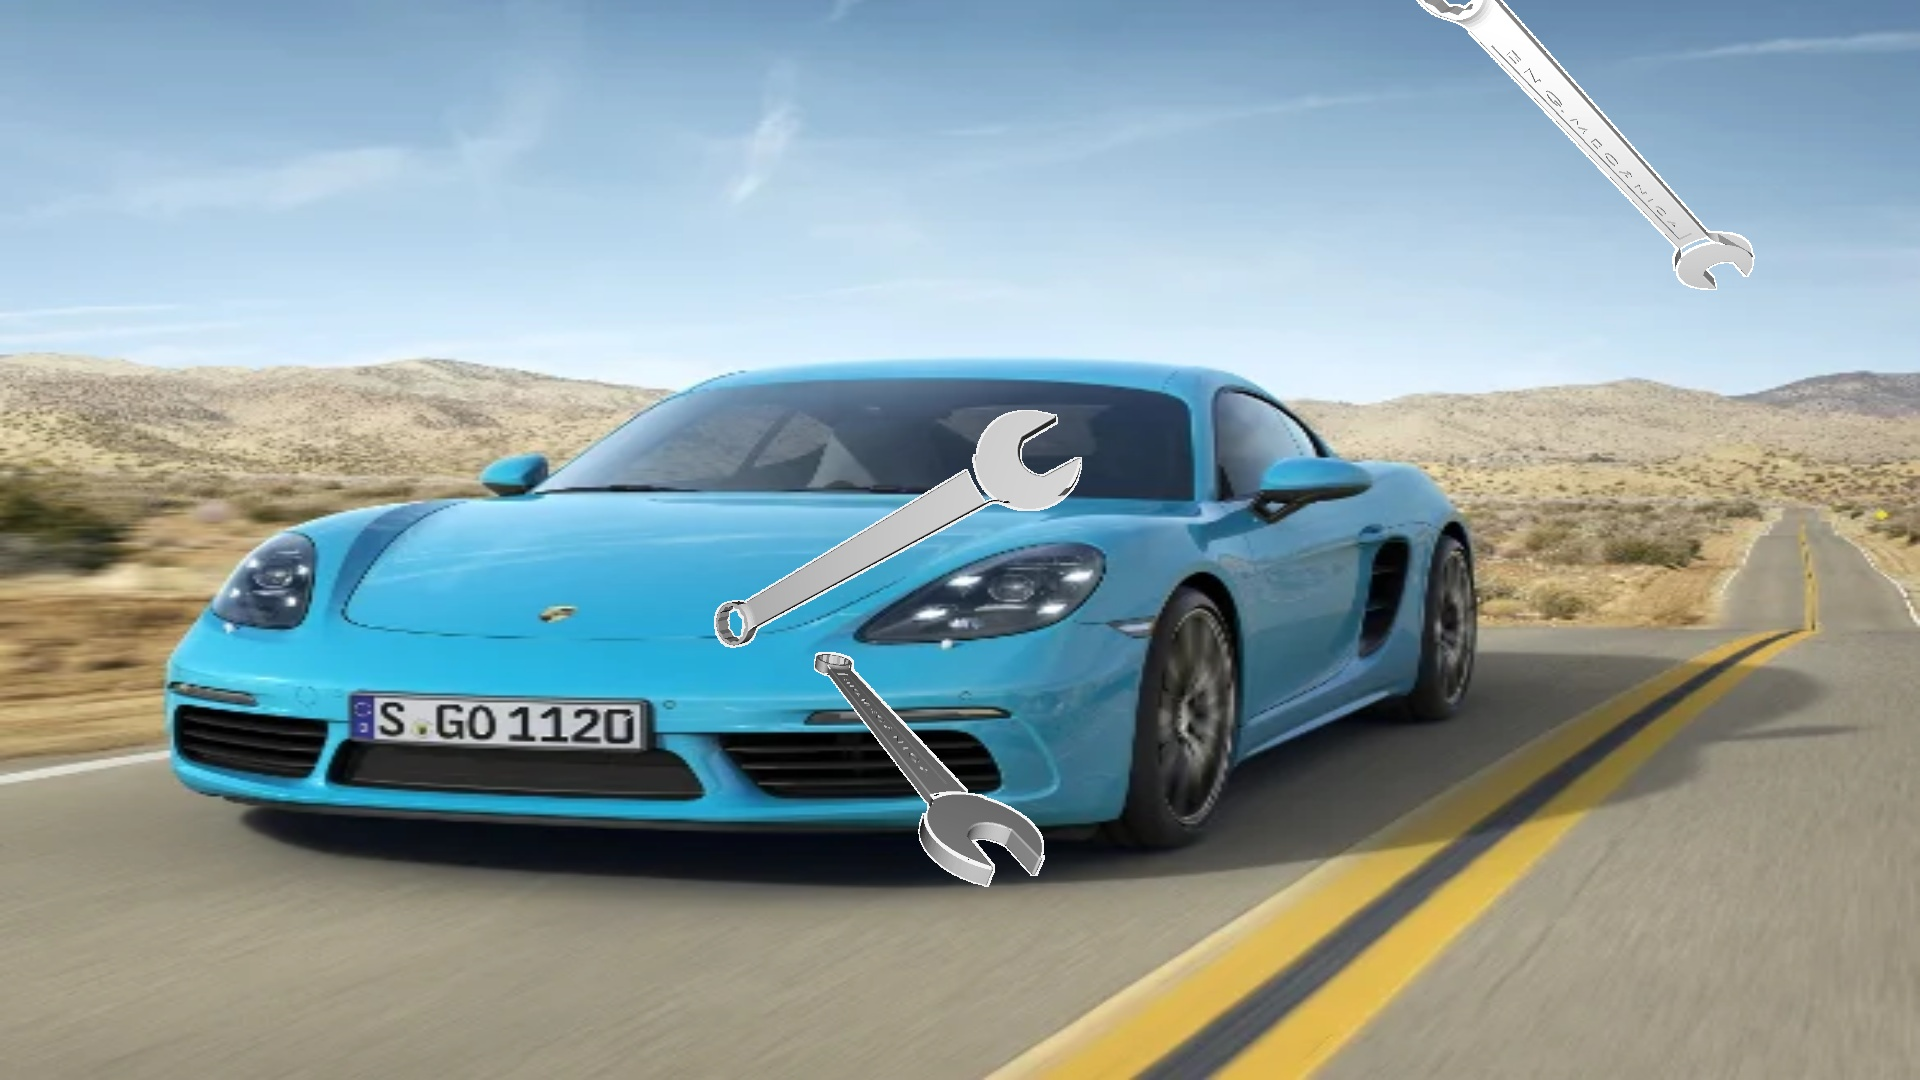Mixed Key: (1416, 0, 1754, 289), (713, 410, 1081, 647), (814, 651, 1044, 886)
